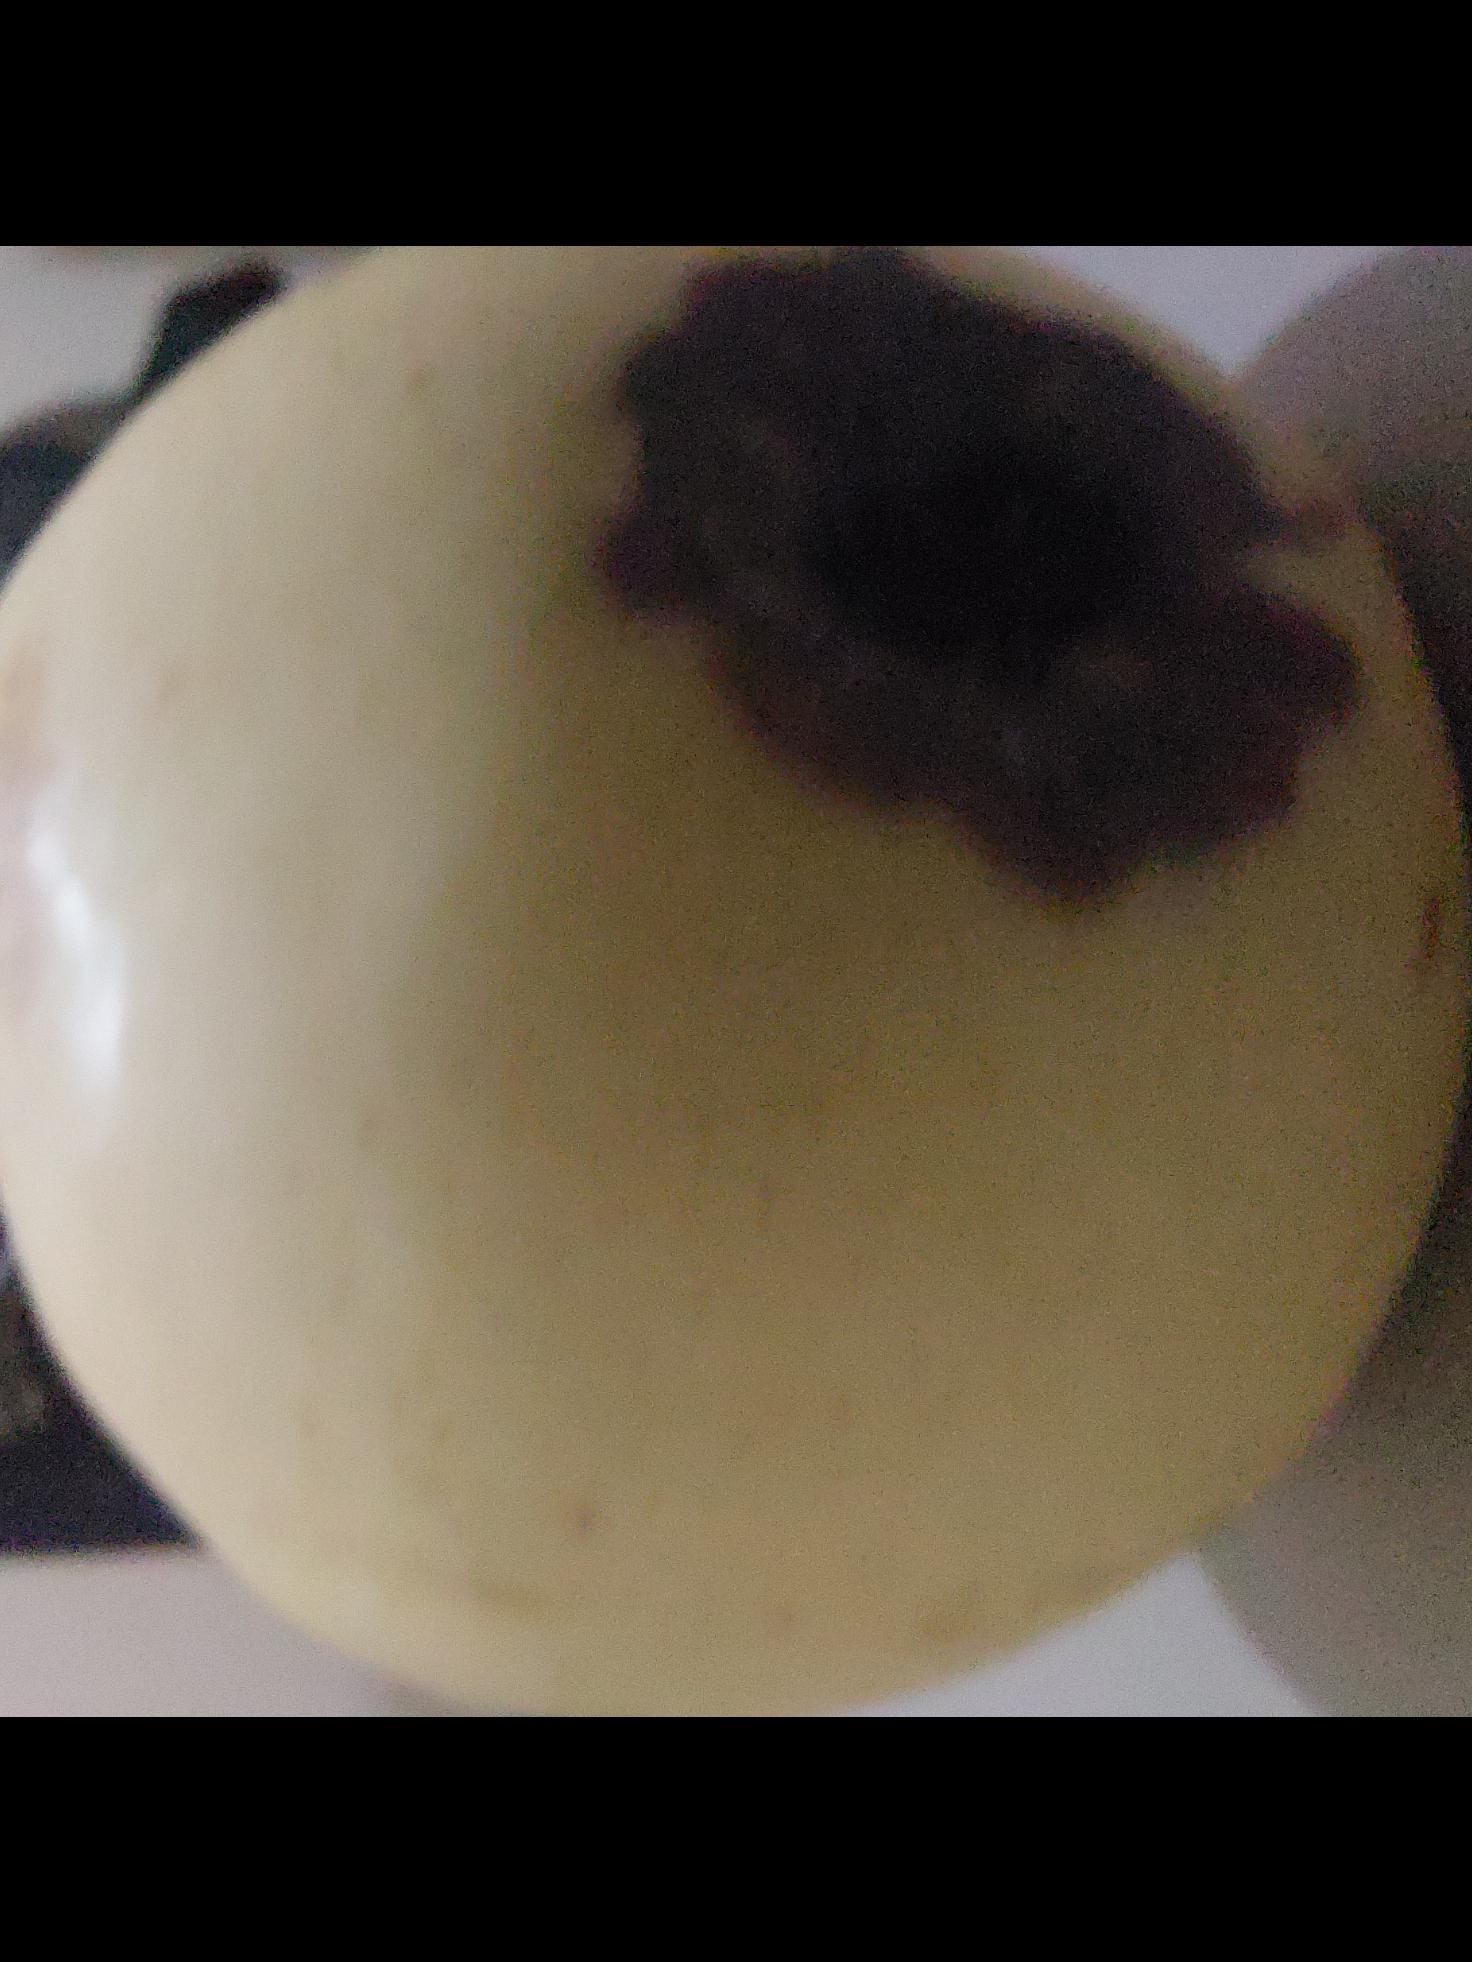Bad Pear: (0, 244, 1472, 1713)
